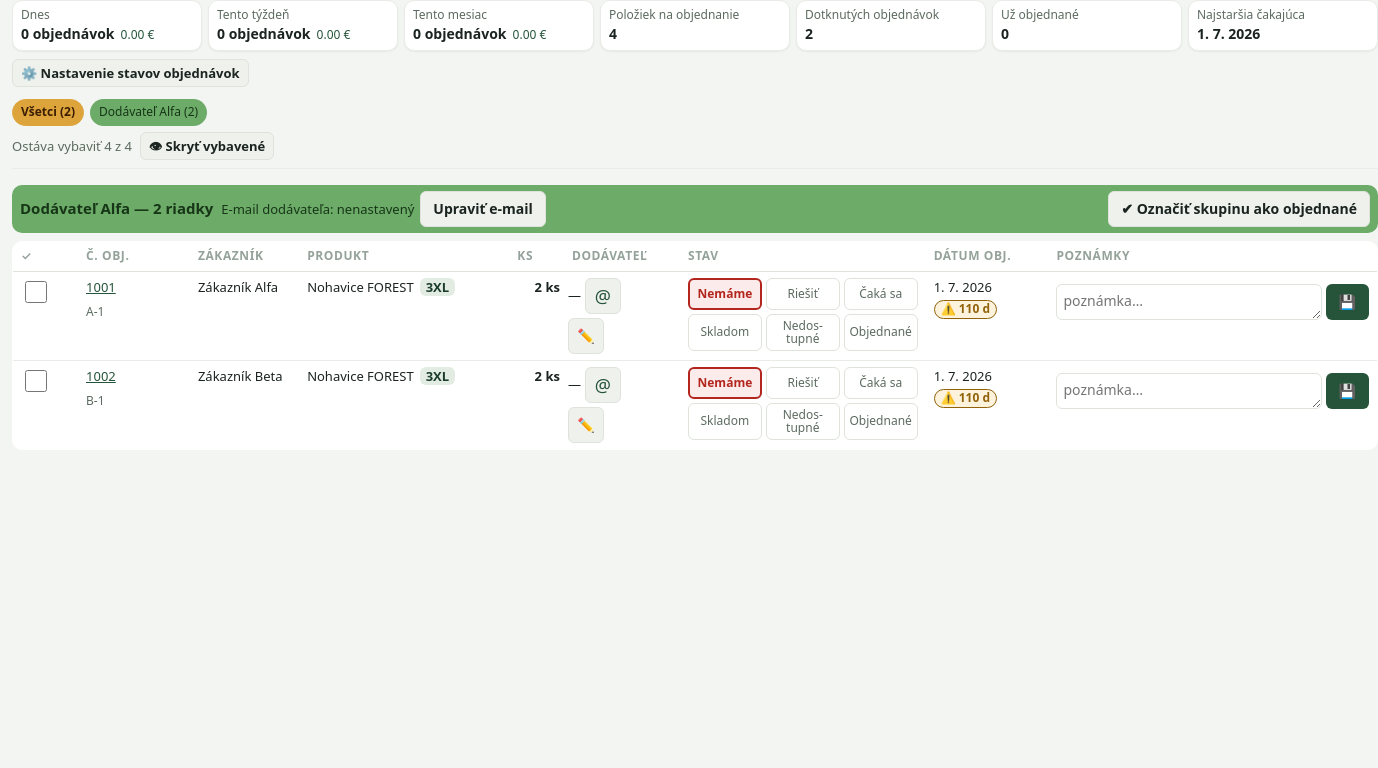
dve nezávislé zlyhania zápisu (iný riadok, iná akcia) sa zobrazia SÚČASNE, kumulatívne
The width and height of the screenshot is (1378, 768).
Step 1. Click the radio button labelled "Skladom" in the row of "A-1" → (725, 332), box x1=688 y1=314 x2=762 y2=351
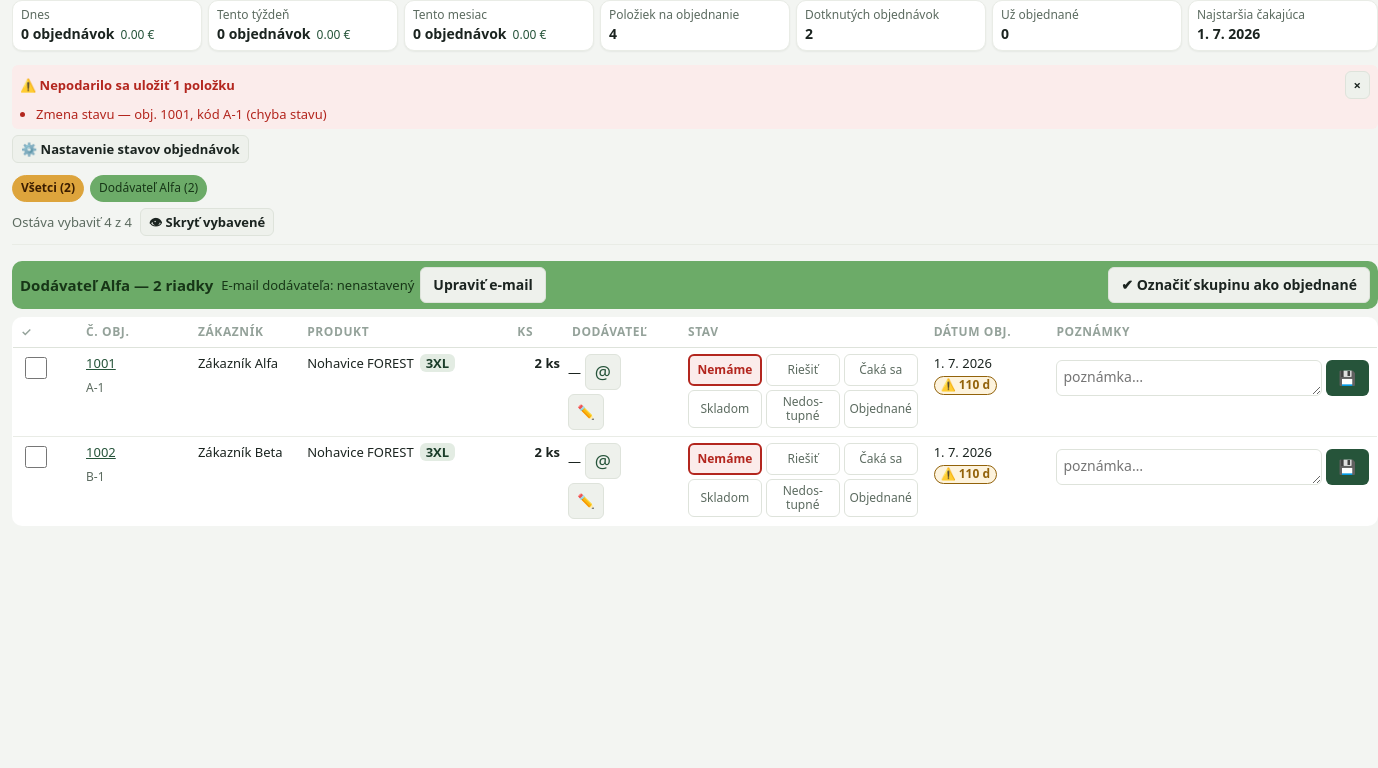
Now the message with test id "order-write-failures" shows "Nepodarilo sa uložiť 1 položku", box x1=20 y1=76 x2=235 y2=94
Step 2. Click the checkbox named "Označiť riadok objednávky 1002 / B-1 ako objednané u dodávat" → (36, 457), box x1=25 y1=446 x2=47 y2=468
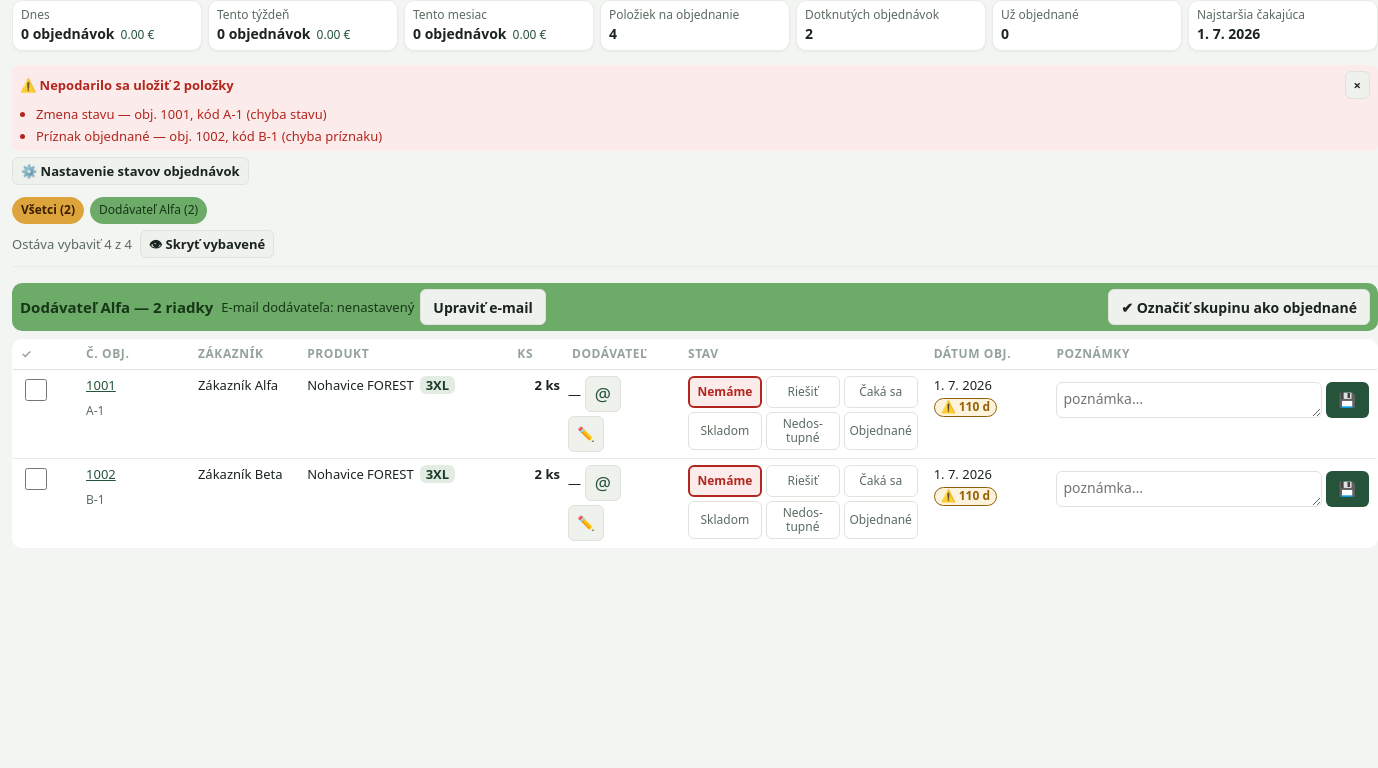
Now the message with test id "order-write-failures" shows "Nepodarilo sa uložiť 2 položky", box x1=20 y1=76 x2=234 y2=94
